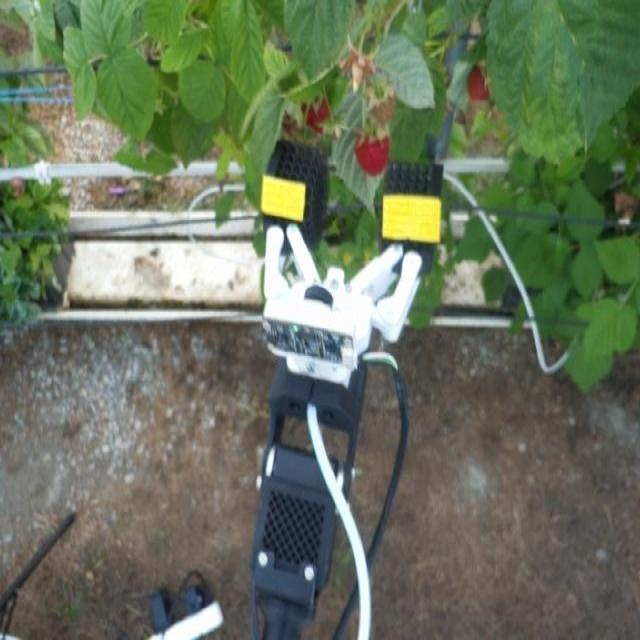Riped berries: (354, 124, 400, 174), (299, 88, 334, 130), (468, 65, 495, 102)
